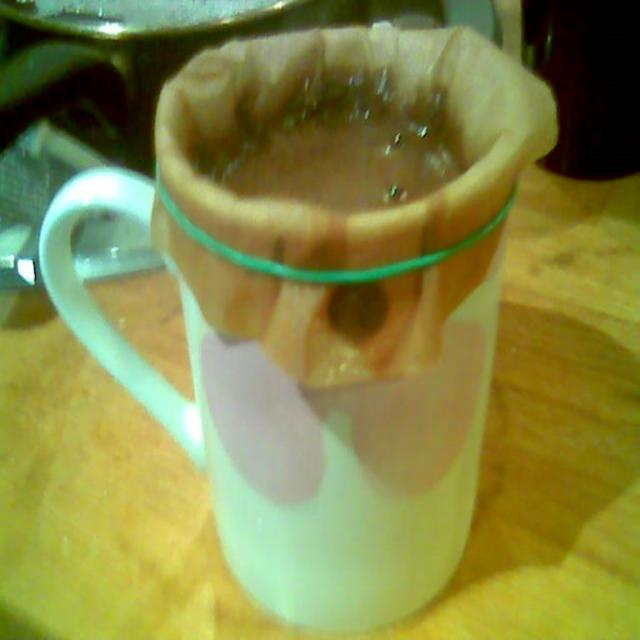Coffee: (220, 86, 462, 212)
